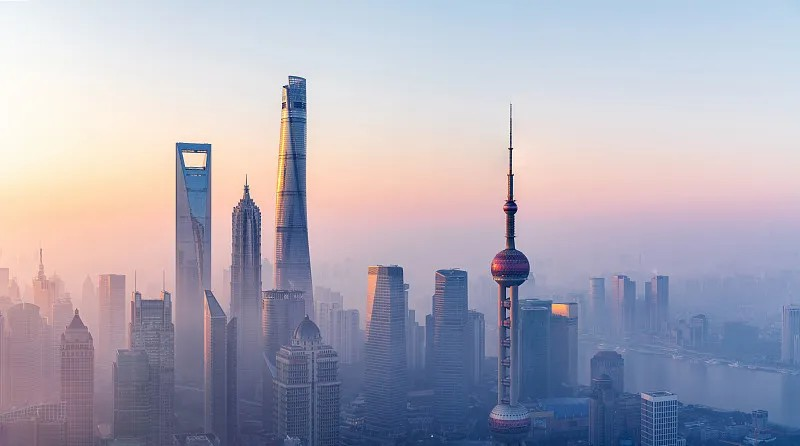Oriental: (488, 103, 532, 446)
